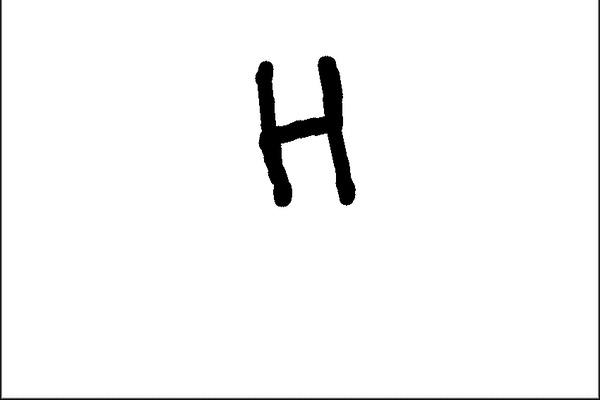H: (244, 50, 359, 210)
